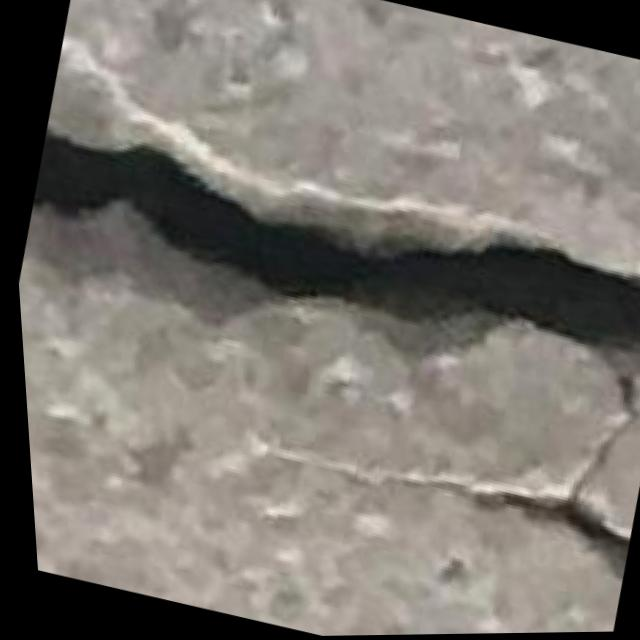Crack: (5, 79, 640, 590)
